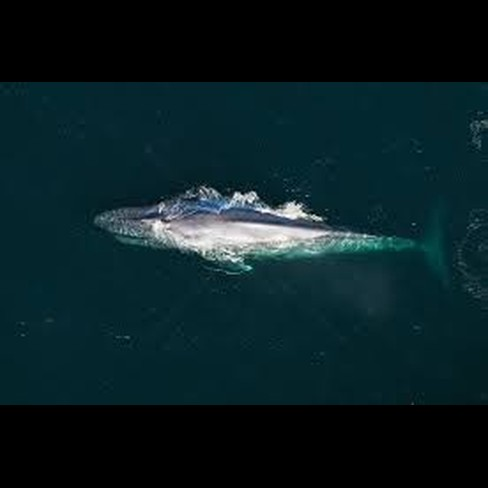bluewhale: (92, 189, 456, 295)
